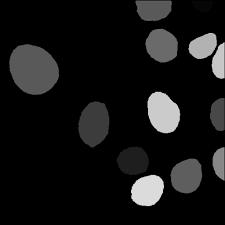cell: (8, 45, 59, 93), (79, 102, 110, 146), (132, 174, 165, 207), (146, 28, 178, 62), (171, 159, 201, 193), (117, 145, 148, 176), (136, 0, 173, 21), (189, 33, 217, 60), (210, 98, 225, 130), (212, 42, 225, 76), (213, 148, 225, 181)
